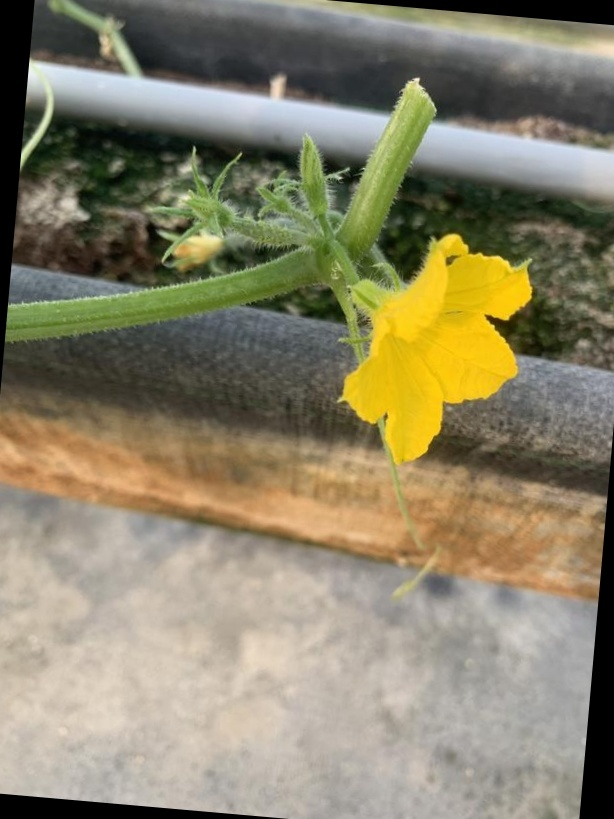flowering: (309, 232, 543, 468)
